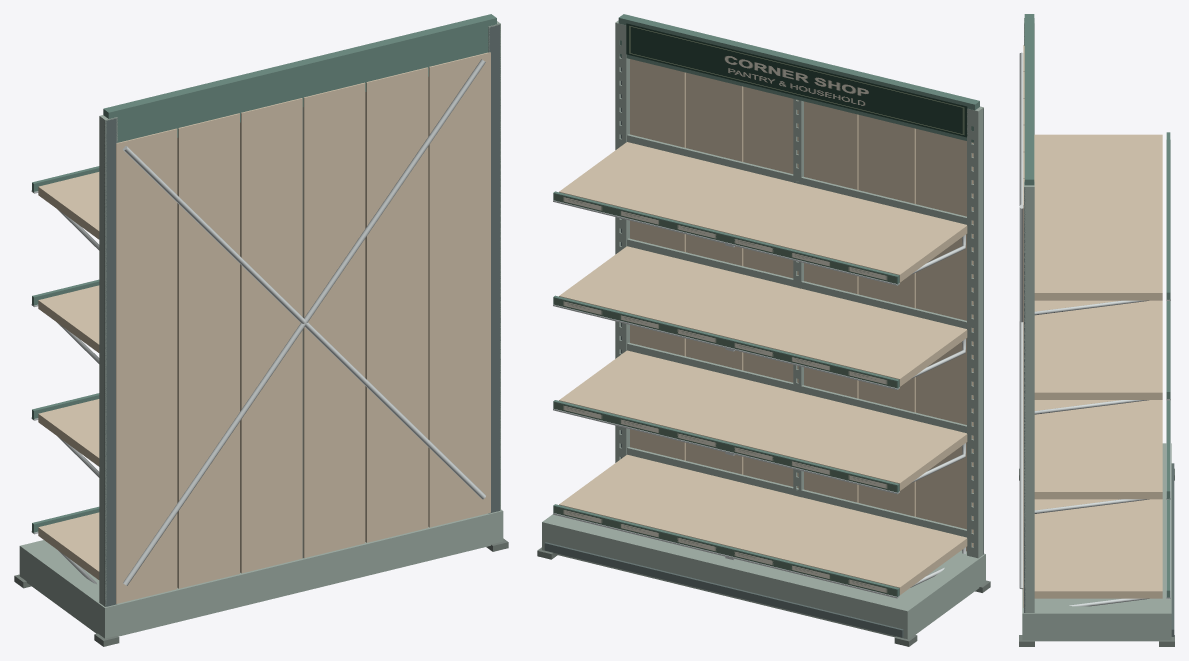
Rendered from wall-shelf-wide.glb.
3 renders of one model, left to right at view 1: azimuth 30°, elevation 25°; view 2: azimuth 150°, elevation 25°; view 3: azimuth 270°, elevation 25°, orthographic. The views are drawn at different scales.
Parts seen in each view (by area): view 1: library-equipment-wall-shelf-wide-product-equipment-birch, library-equipment-wall-shelf-wide-product-equipment-sage, library-equipment-wall-shelf-wide-product-equipment-forest, library-equipment-wall-shelf-wide-product-equipment-dark, library-equipment-wall-shelf-wide-product-equipment-steel; view 2: library-equipment-wall-shelf-wide-product-equipment-birch, library-equipment-wall-shelf-wide-product-equipment-sage, library-equipment-wall-shelf-wide-product-equipment-forest, library-equipment-wall-shelf-wide-wall-shelf-wide-corner-sho, library-equipment-wall-shelf-wide-product-label-equipment-di, library-equipment-wall-shelf-wide-product-equipment-steel, library-equipment-wall-shelf-wide-product-equipment-dark; view 3: library-equipment-wall-shelf-wide-product-equipment-birch, library-equipment-wall-shelf-wide-product-equipment-sage, library-equipment-wall-shelf-wide-product-equipment-steel, library-equipment-wall-shelf-wide-product-equipment-forest, library-equipment-wall-shelf-wide-product-equipment-dark, library-equipment-wall-shelf-wide-product-equipment-rubber.
Boxes of the visible parts, box(x1,y1,x2,y2) form: library-equipment-wall-shelf-wide-product-equipment-birch: box(38, 52, 490, 603); library-equipment-wall-shelf-wide-product-equipment-sage: box(19, 21, 503, 638); library-equipment-wall-shelf-wide-product-equipment-forest: box(32, 14, 496, 533); library-equipment-wall-shelf-wide-product-equipment-dark: box(104, 23, 500, 606); library-equipment-wall-shelf-wide-product-equipment-steel: box(31, 59, 485, 585); library-equipment-wall-shelf-wide-product-equipment-birch: box(559, 59, 973, 594); library-equipment-wall-shelf-wide-product-equipment-sage: box(542, 20, 985, 639); library-equipment-wall-shelf-wide-product-equipment-forest: box(553, 14, 979, 597); library-equipment-wall-shelf-wide-wall-shelf-wide-corner-sho: box(626, 23, 967, 137); library-equipment-wall-shelf-wide-product-label-equipment-di: box(554, 194, 896, 596); library-equipment-wall-shelf-wide-product-equipment-steel: box(553, 200, 965, 598); library-equipment-wall-shelf-wide-product-equipment-dark: box(544, 57, 983, 637); library-equipment-wall-shelf-wide-product-equipment-birch: box(1023, 45, 1162, 607); library-equipment-wall-shelf-wide-product-equipment-sage: box(1022, 18, 1171, 641); library-equipment-wall-shelf-wide-product-equipment-steel: box(1019, 52, 1170, 606); library-equipment-wall-shelf-wide-product-equipment-forest: box(1024, 14, 1170, 597); library-equipment-wall-shelf-wide-product-equipment-dark: box(1024, 36, 1174, 636); library-equipment-wall-shelf-wide-product-equipment-rubber: box(1019, 468, 1174, 646).
Size of the model in its own units: 1.68 by 2.1 by 0.64.
8 materials, 2 textured.
